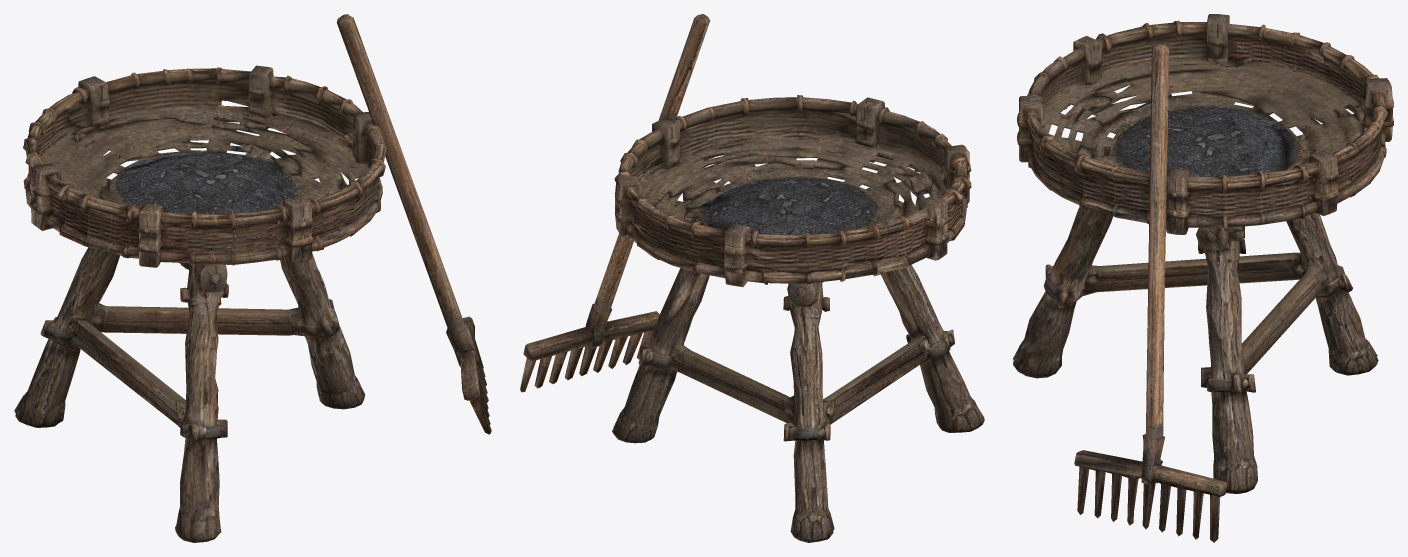
The model's file is kit_tw_riddle_stand.glb.
3 renders of one model, left to right at view 1: azimuth 30°, elevation 25°; view 2: azimuth 150°, elevation 25°; view 3: azimuth 270°, elevation 25°, orthographic. The views are drawn at different scales.
Parts seen in each view (by area): view 1: kit_tw_riddle_stand; view 2: kit_tw_riddle_stand; view 3: kit_tw_riddle_stand.
Boxes of the visible parts, x1,y1,x2,y2 form: kit_tw_riddle_stand: [14, 14, 491, 542]; kit_tw_riddle_stand: [520, 14, 984, 542]; kit_tw_riddle_stand: [1013, 14, 1393, 542].
Size of the model in its own units: 1.65 by 1.5 by 1.2.
1 material, 1 textured.
